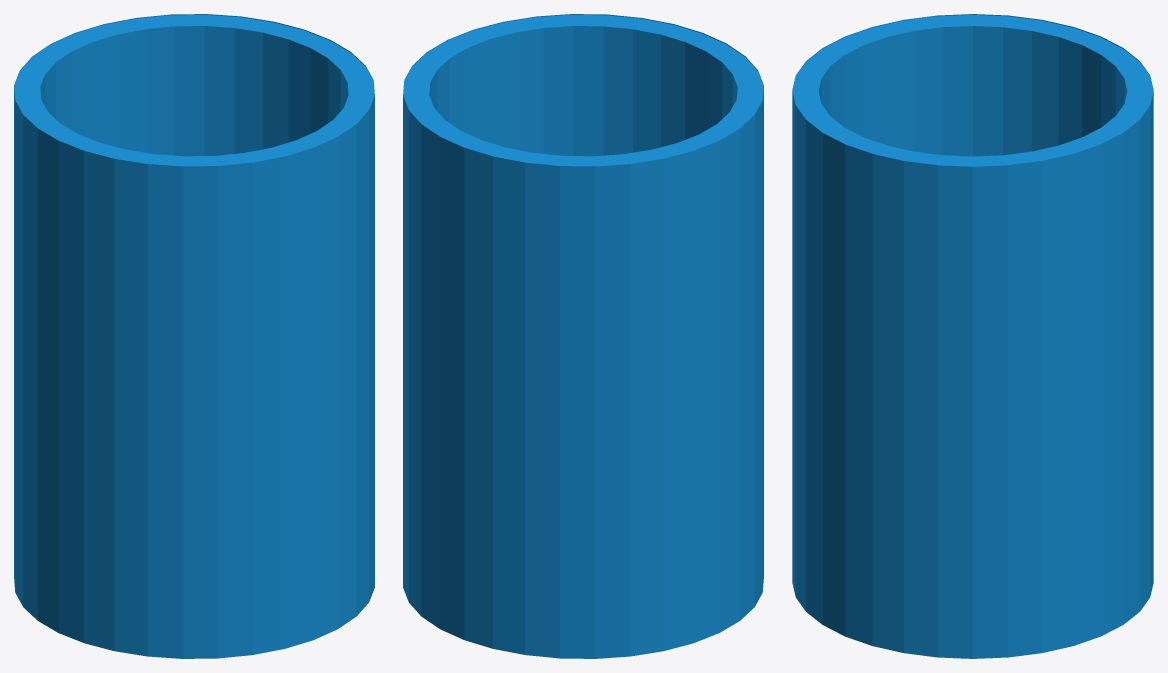
File: yuantong_10_10_30.glb
3 views of the same model, side by side, from view 1: azimuth 30°, elevation 25°; view 2: azimuth 150°, elevation 25°; view 3: azimuth 270°, elevation 25° (orthographic).
Visible parts, largest first — view 1: 柱体; view 2: 柱体; view 3: 柱体.
Part boxes in pixels (left/top/right/bottom): 柱体: left=14, top=14, right=374, bottom=658; 柱体: left=403, top=14, right=763, bottom=658; 柱体: left=792, top=14, right=1153, bottom=658.
Size of the model in its own units: 0.2 by 0.3005 by 0.2.
